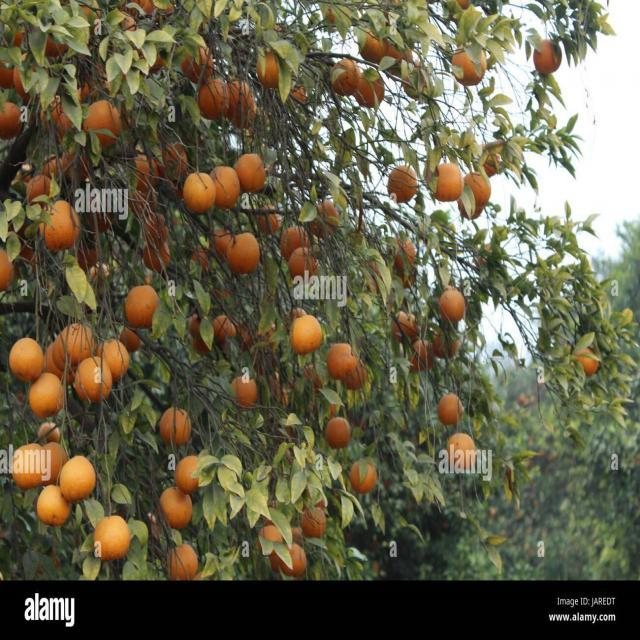Jeruk Sudah Matang: (73, 355, 115, 403), (326, 344, 367, 392), (84, 102, 121, 151), (59, 458, 96, 503), (43, 200, 76, 250), (451, 45, 492, 84), (9, 339, 43, 386), (95, 517, 129, 562), (11, 446, 45, 491), (442, 433, 476, 474), (159, 408, 192, 449), (125, 287, 157, 329), (235, 154, 269, 193), (182, 173, 215, 213), (291, 314, 323, 355), (433, 165, 467, 202), (388, 165, 419, 203), (227, 235, 258, 272), (164, 545, 198, 578), (531, 43, 563, 76), (198, 80, 224, 118), (437, 290, 466, 324), (324, 418, 352, 451), (350, 463, 378, 495), (174, 457, 198, 494), (333, 63, 360, 95), (230, 376, 256, 408), (438, 395, 461, 428)
